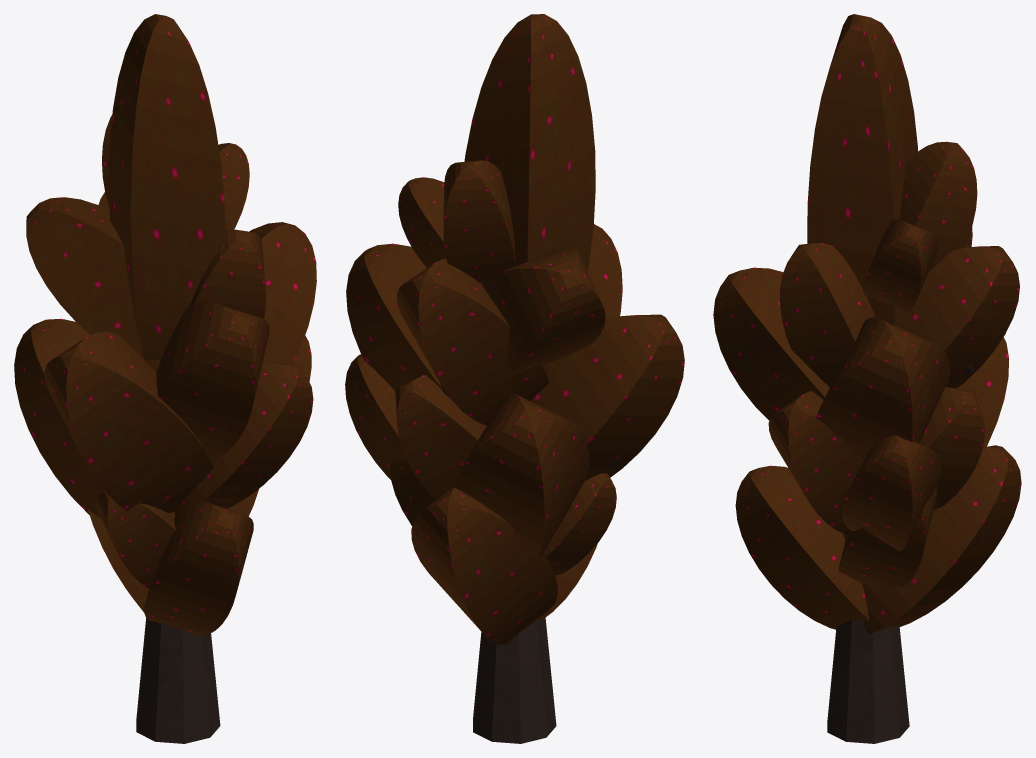
File: tree-brown-red-flowers_8.fbx
3 renders of one model, left to right at view 1: azimuth 30°, elevation 25°; view 2: azimuth 150°, elevation 25°; view 3: azimuth 270°, elevation 25°, orthographic. The views are drawn at different scales.
Parts seen in each view (by area): view 1: Sphere.005; view 2: Sphere.005; view 3: Sphere.005.
Part boxes in pixels (<box>): Sphere.005: <box>14,14,316,743</box>; Sphere.005: <box>345,14,684,743</box>; Sphere.005: <box>713,14,1021,743</box>.
Bounding box in the file's own units: 178 × 424 × 169.
